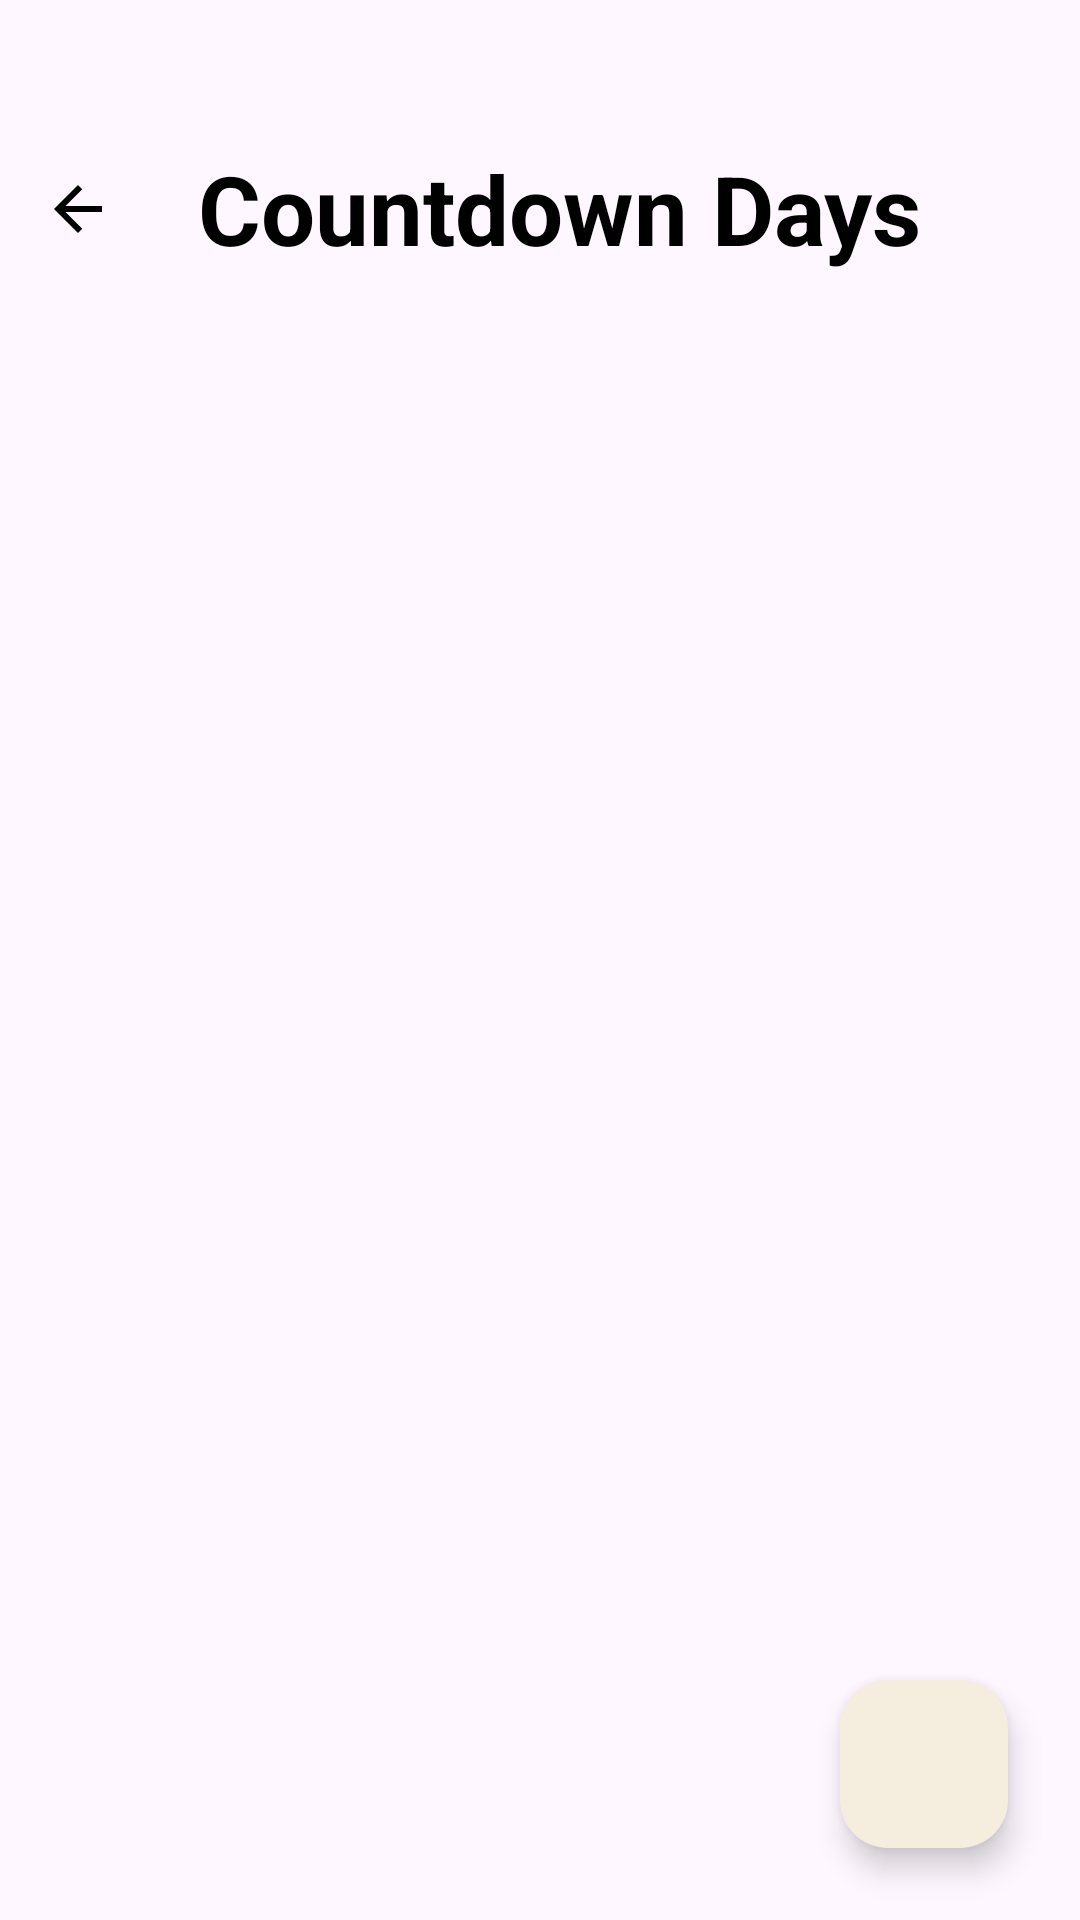

Point at icon controls on the screen. Image size 1080×1920, points as point (x, y).
Back Button: point (78, 209)
